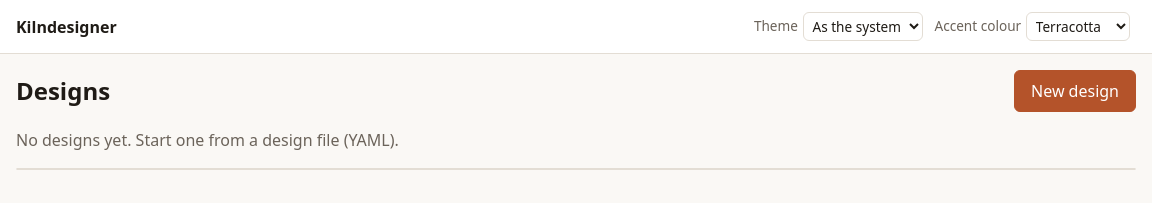
Test: DesignList › says when there are no designs yet, and starts a new one
expect the text "No designs yet. Start one from a design file (YAML)." is shown: met, box [16,129,399,151]
Click the link "New design" at (1075, 91), box [1014,70,1136,112]
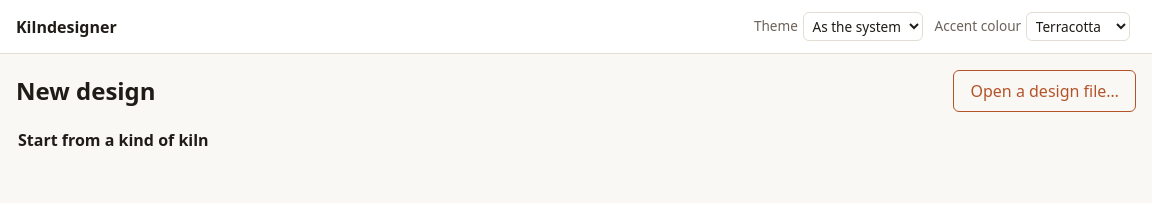
expect the heading "New design" is shown: met, box [16,73,156,109]
